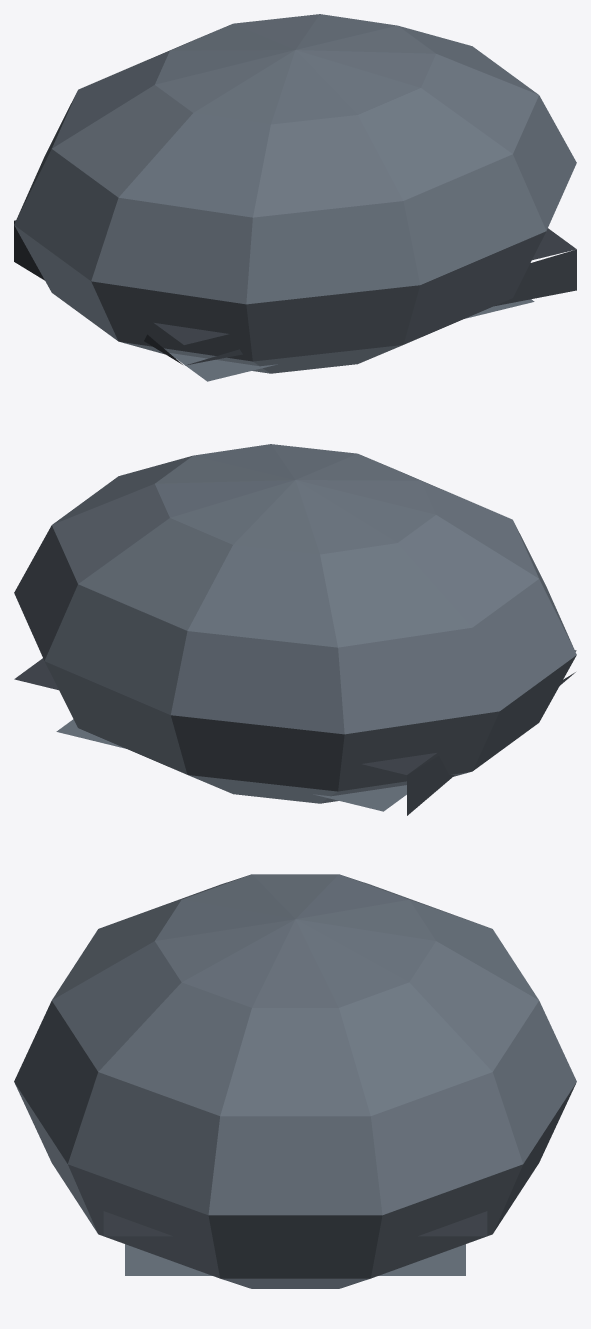
File: pauldron.lod.glb
The picture shows the model from 3 angles, top to bottom: view 1: azimuth 30°, elevation 25°; view 2: azimuth 150°, elevation 25°; view 3: azimuth 270°, elevation 25°; orthographic projection. The views are drawn at different scales.
Parts seen in each view (by area): view 1: m; view 2: m; view 3: m.
Boxes of the visible parts, bbox=[...] form: m: bbox=[14, 14, 576, 381]; m: bbox=[14, 444, 576, 815]; m: bbox=[14, 874, 576, 1288].
Size of the model in its own units: 0.1394 by 0.0789 by 0.124.
